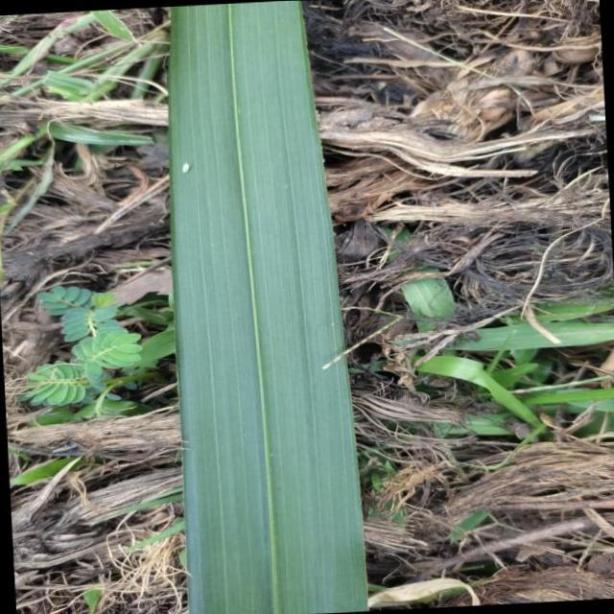Healthy: (163, 1, 372, 614)
